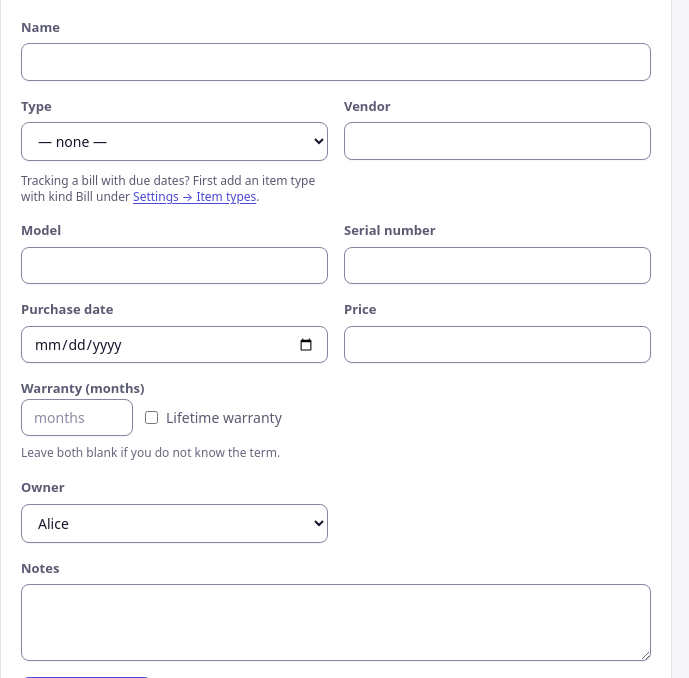
NewWarrantyClient › shows the live computed expiry beside the months input (MUST-10.4)
(page scrolled)
Type "2026-01-31" into the date field named "purchaseDate".
click(174, 345); type("2026-01-31")  # box x1=21 y1=326 x2=328 y2=363
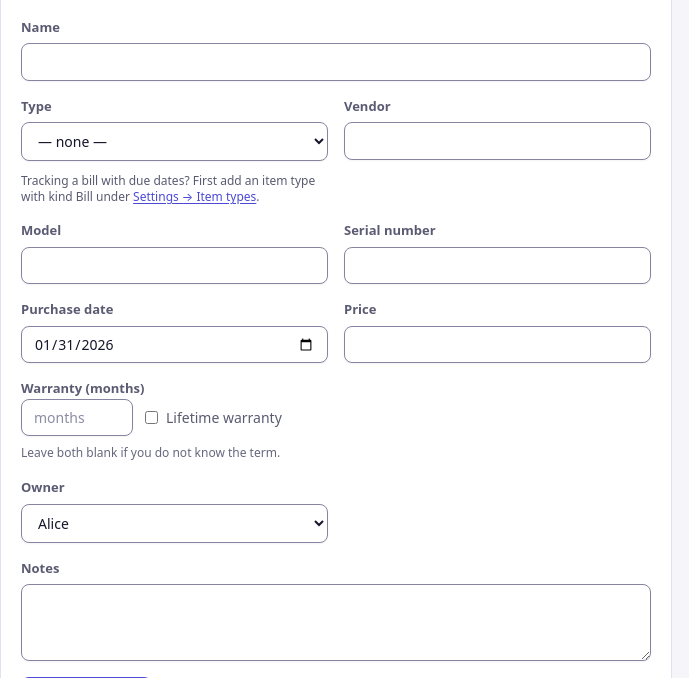
Type "1" into the number field named "warrantyMonths".
click(77, 418); type("1")  # box x1=21 y1=399 x2=133 y2=436
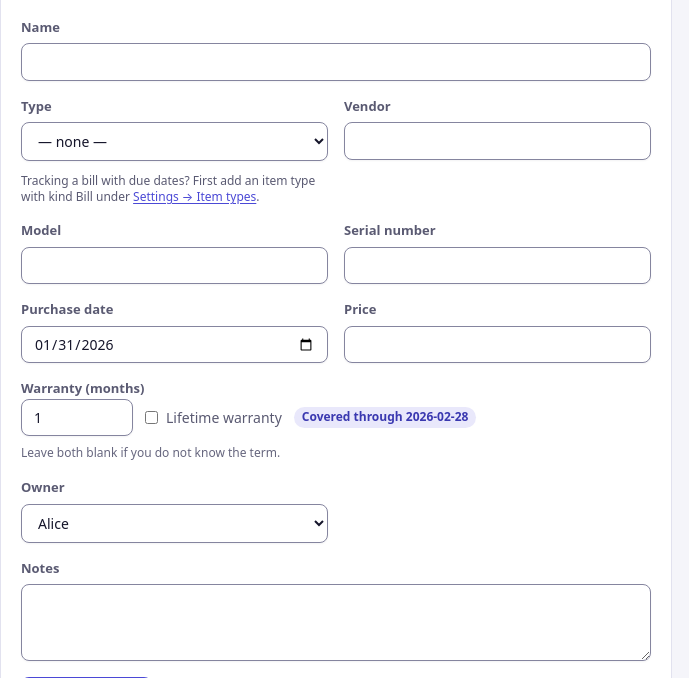
Now the text "Covered through 2026-02-28" is shown, box x1=294 y1=407 x2=476 y2=428
